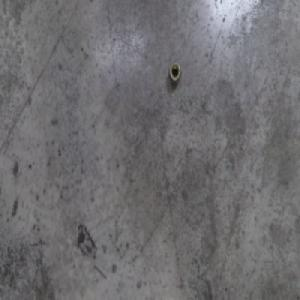Nut: (168, 62, 181, 86)
